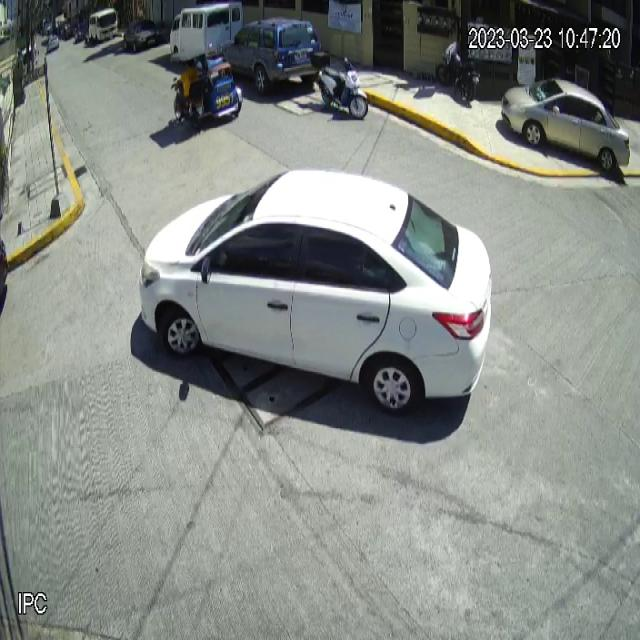Car: (139, 167, 493, 413), (501, 76, 630, 170)
Motorcycle: (311, 51, 368, 120)
Tricycle: (170, 48, 243, 125)
Van: (169, 0, 244, 57)
